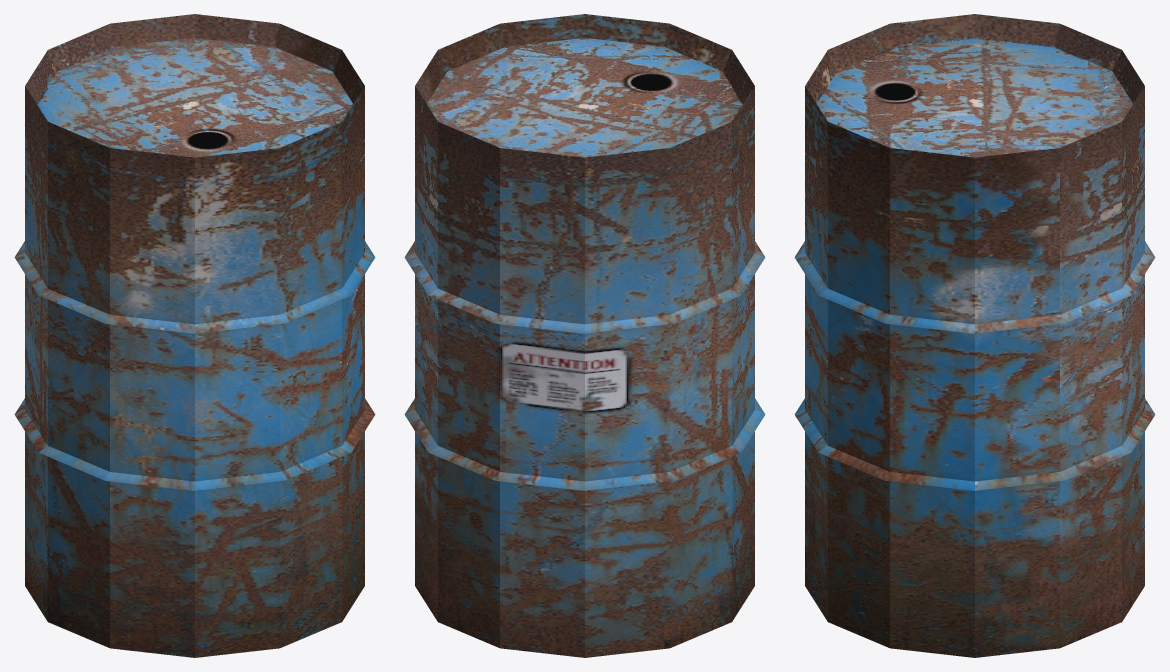
File: barrel01.fbx
The picture shows the model from 3 angles, left to right: view 1: azimuth 30°, elevation 25°; view 2: azimuth 150°, elevation 25°; view 3: azimuth 270°, elevation 25°; orthographic projection.
Visible parts, largest first — view 1: barrel01_Layer1; view 2: barrel01_Layer1; view 3: barrel01_Layer1.
Boxes of the visible parts, x1,y1,x2,y2 form: barrel01_Layer1: [14, 14, 375, 657]; barrel01_Layer1: [404, 14, 765, 657]; barrel01_Layer1: [794, 14, 1155, 657].
Size of the model in its own units: 34 by 52 by 34.
Materials: 1 (1 with a texture image).
